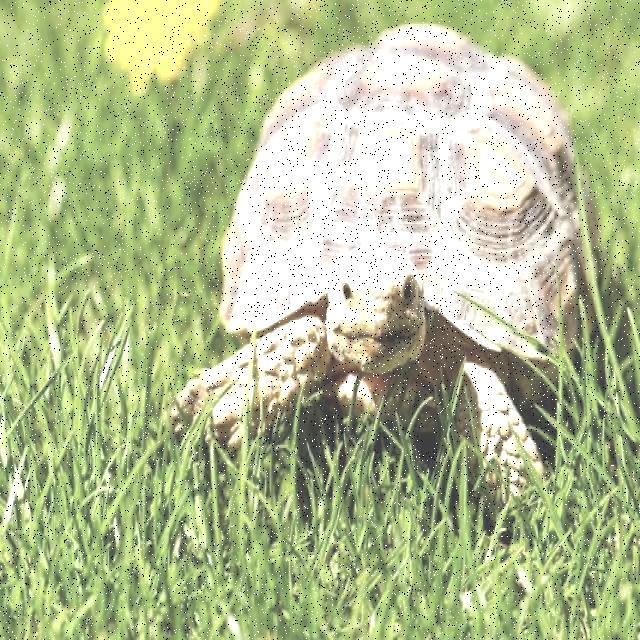tortoise: (135, 23, 640, 517)
